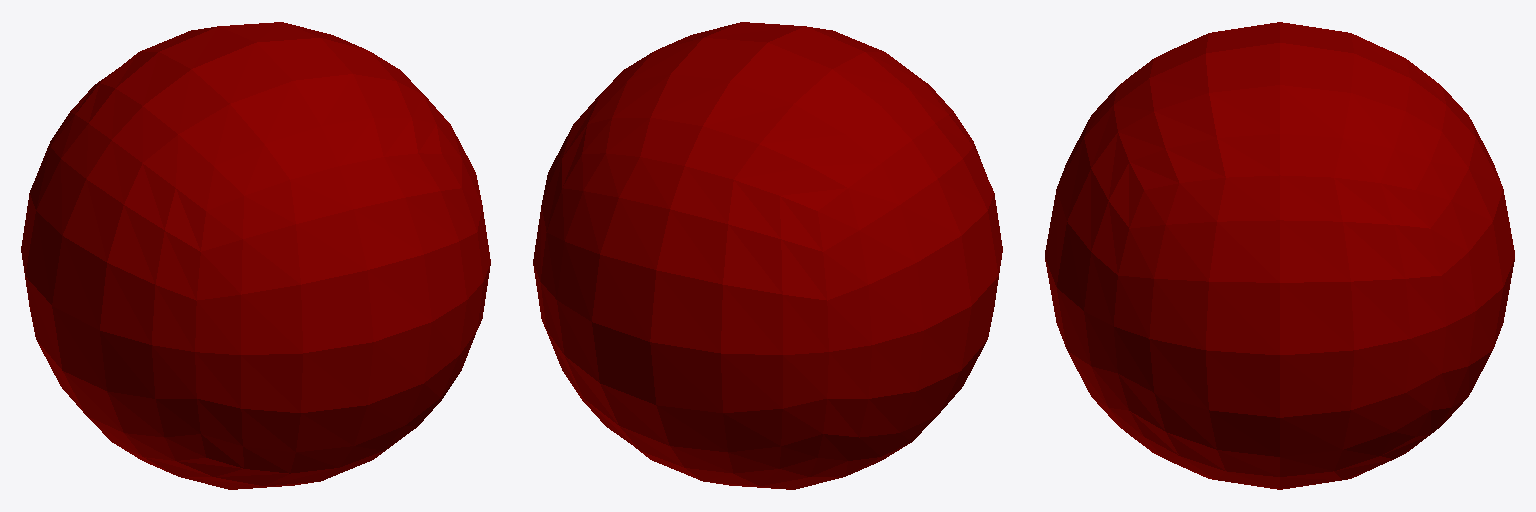
File: superball.obj
3 renders of one model, left to right at view 1: azimuth 30°, elevation 25°; view 2: azimuth 150°, elevation 25°; view 3: azimuth 270°, elevation 25°, orthographic.
Visible parts, largest first — view 1: superball; view 2: superball; view 3: superball.
Part boxes in pixels (x1,y1,x2,y2): superball: (21,22,490,489); superball: (533,22,1002,489); superball: (1045,22,1514,489).
Size of the model in its own units: 2 by 2 by 2.